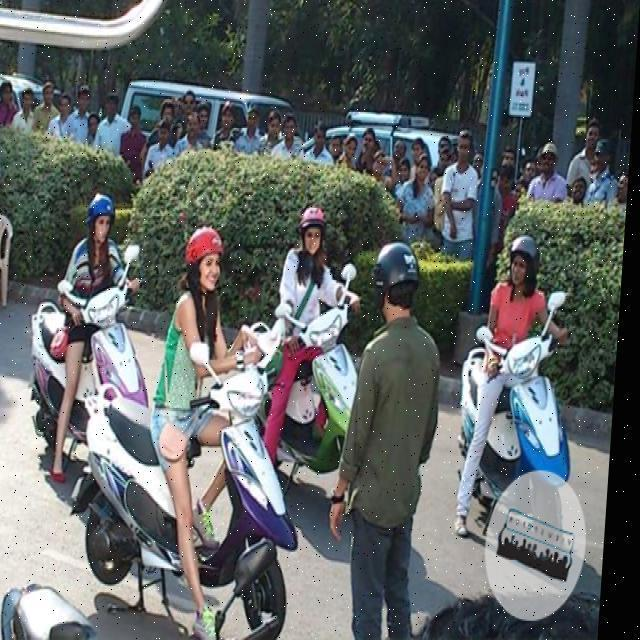Helmet: (368, 227, 432, 322), (184, 218, 236, 300), (504, 222, 552, 300), (84, 182, 126, 252), (294, 198, 336, 262)
